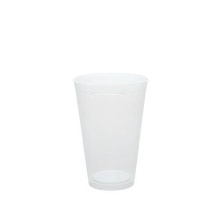glass: (66, 60, 153, 199)
